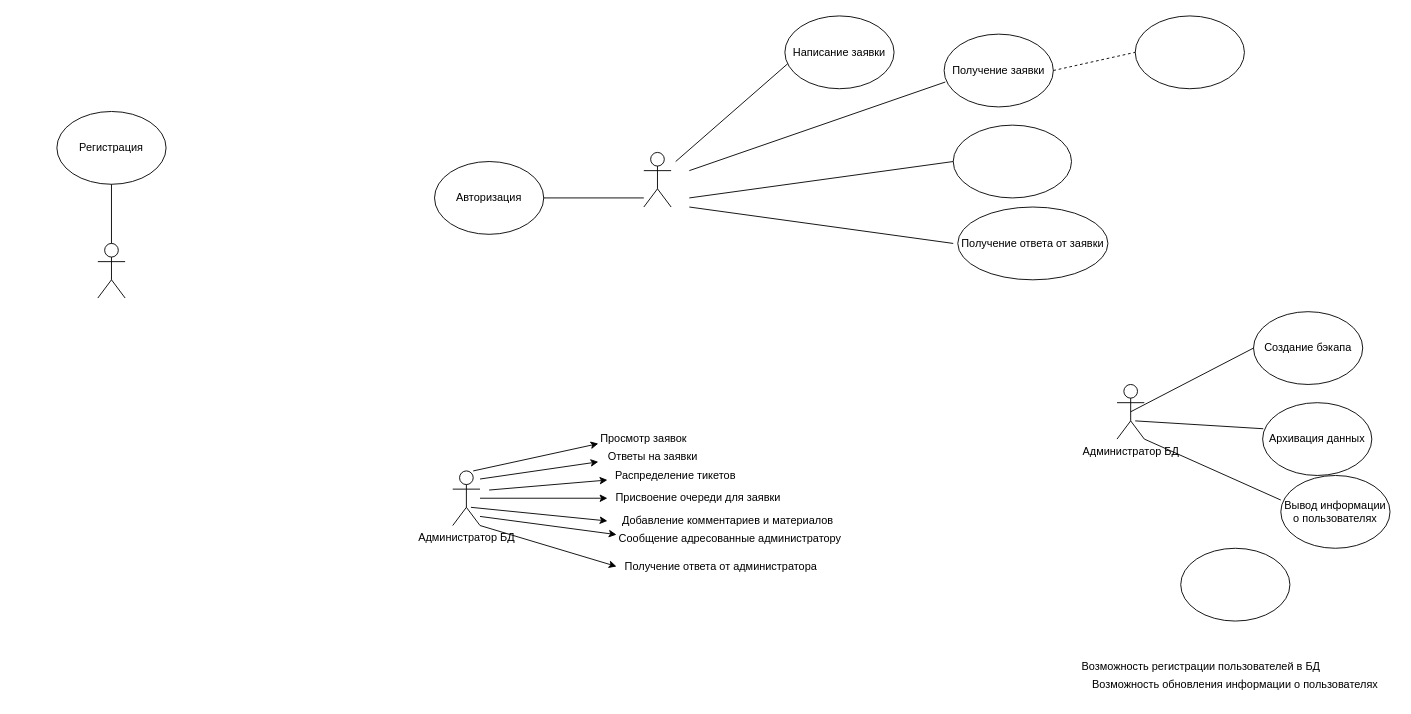
The diagram is 1411 pixels wide and 714 high, and some of its shapes have lost their labels. Each missing label, with the centre of its shape:
"Вывод информации о заявках" goes at [1235,584].
"Зарегистрированный пользователь" goes at [657,179].
"Незарегистрированный пользователь" goes at [111,270].
"Отправление заявки с обратной связью" goes at [1012,161].
"Получение даты создания заявки" goes at [1189,52].
